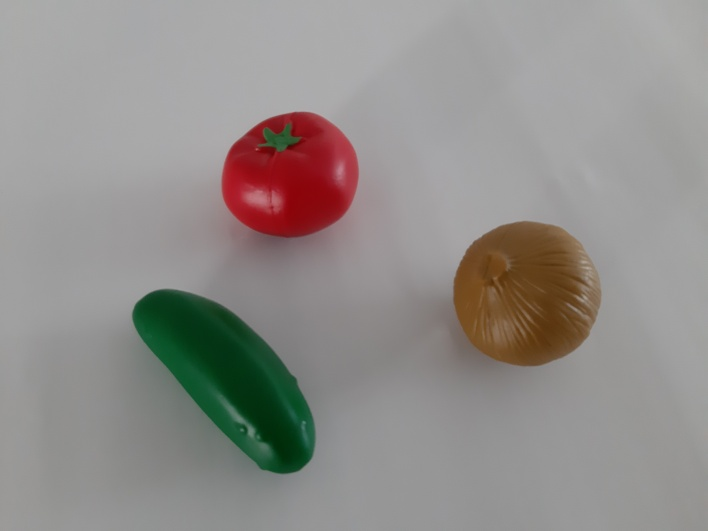cucumber: (111, 275, 341, 500)
onion: (432, 200, 618, 378)
tomato: (209, 92, 369, 250)
